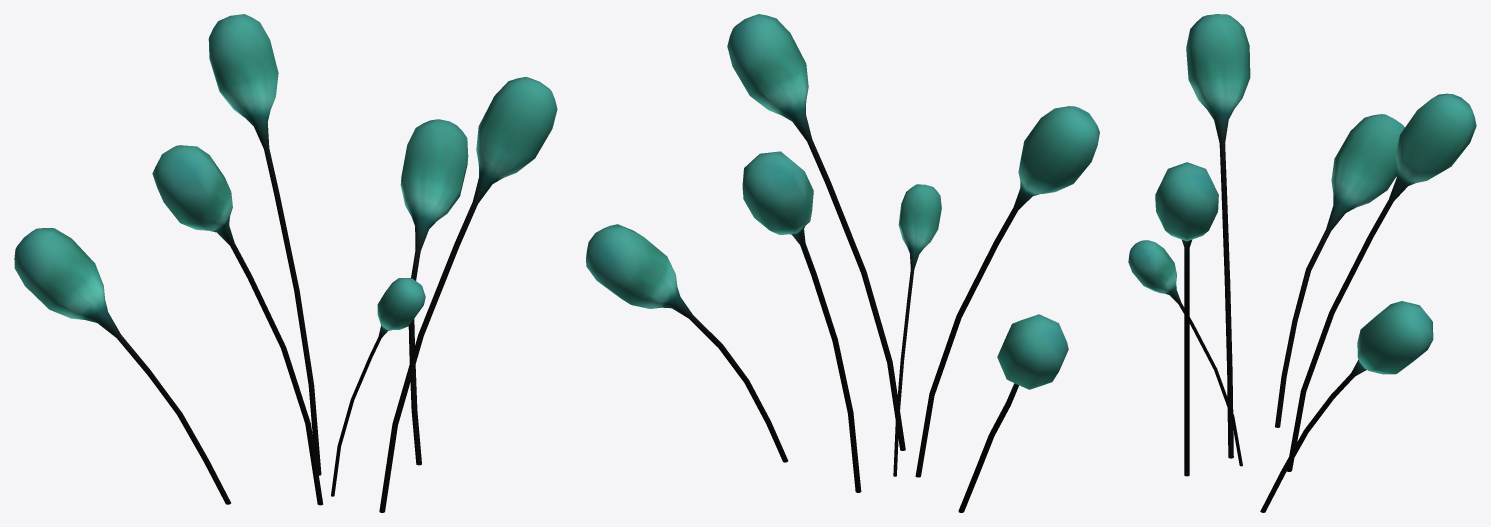
Rendered from Bulb_6.fbx.
3 views of the same model, side by side, from view 1: azimuth 30°, elevation 25°; view 2: azimuth 150°, elevation 25°; view 3: azimuth 270°, elevation 25° (orthographic). The views are drawn at different scales.
Visible parts, largest first — view 1: Cube; view 2: Cube; view 3: Cube.
Boxes of the visible parts, x1,y1,x2,y2 form: Cube: (14,14,557,512); Cube: (586,14,1099,512); Cube: (1128,14,1476,512).
Size of the model in its own units: 176 by 146 by 122.
Materials: 1 (1 with a texture image).
